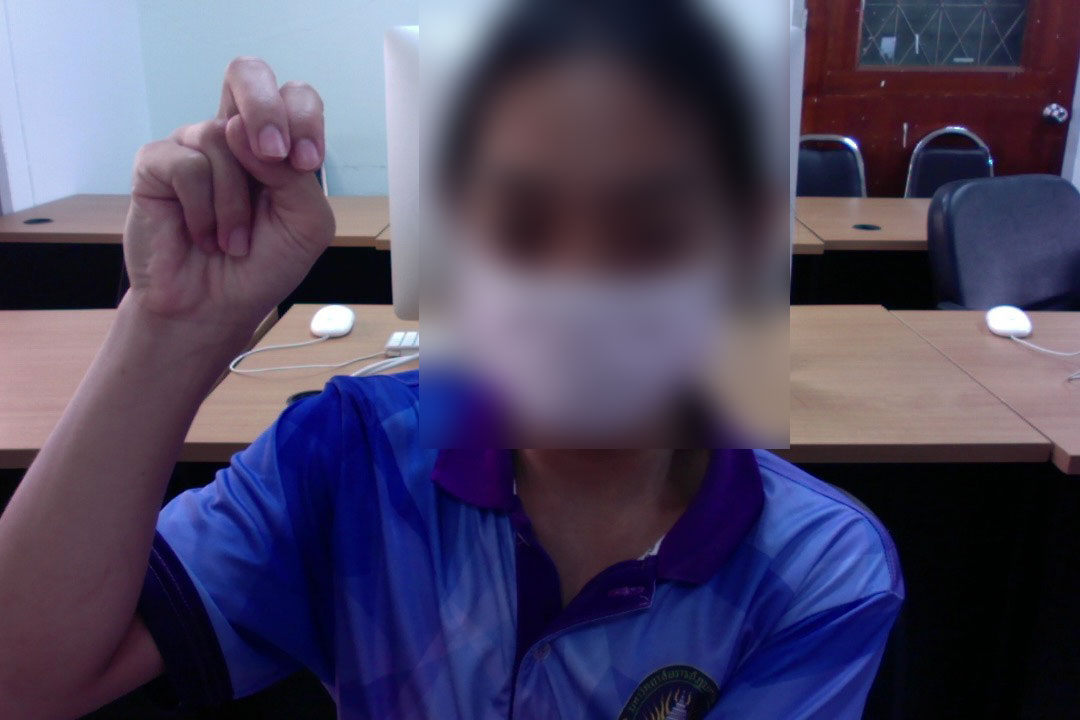nor: (108, 45, 347, 371)
